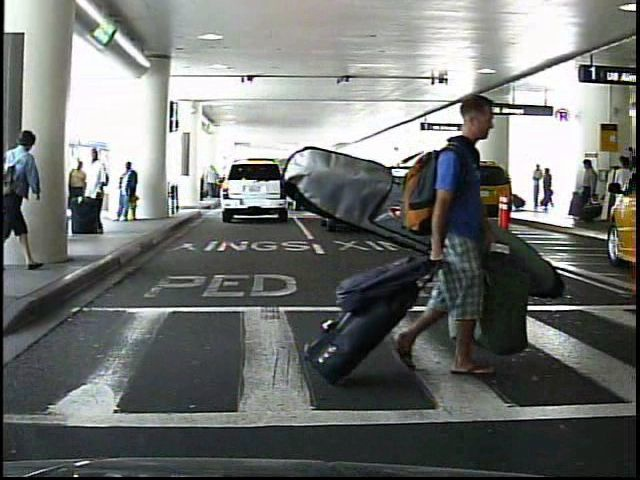person: (383, 85, 493, 389), (84, 146, 110, 238), (604, 152, 633, 232), (115, 159, 140, 225), (574, 158, 597, 225), (67, 158, 88, 231), (623, 142, 638, 212), (529, 163, 544, 210), (541, 169, 551, 213)
